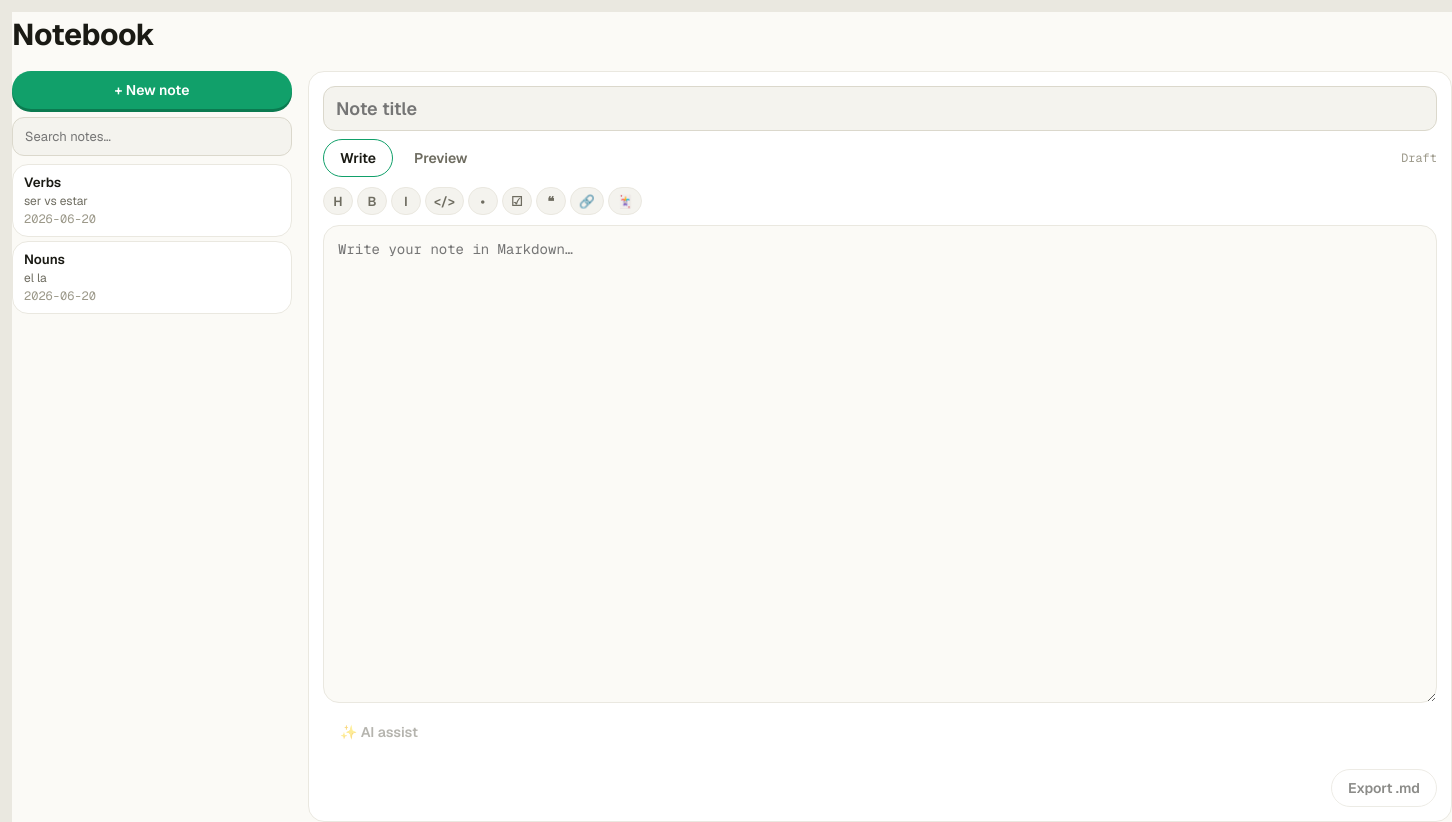
Test case: Notebook › lists notes and opens one in the editor
Step 1. Click the text "Nouns" → click(44, 260), box [24,251,65,268]
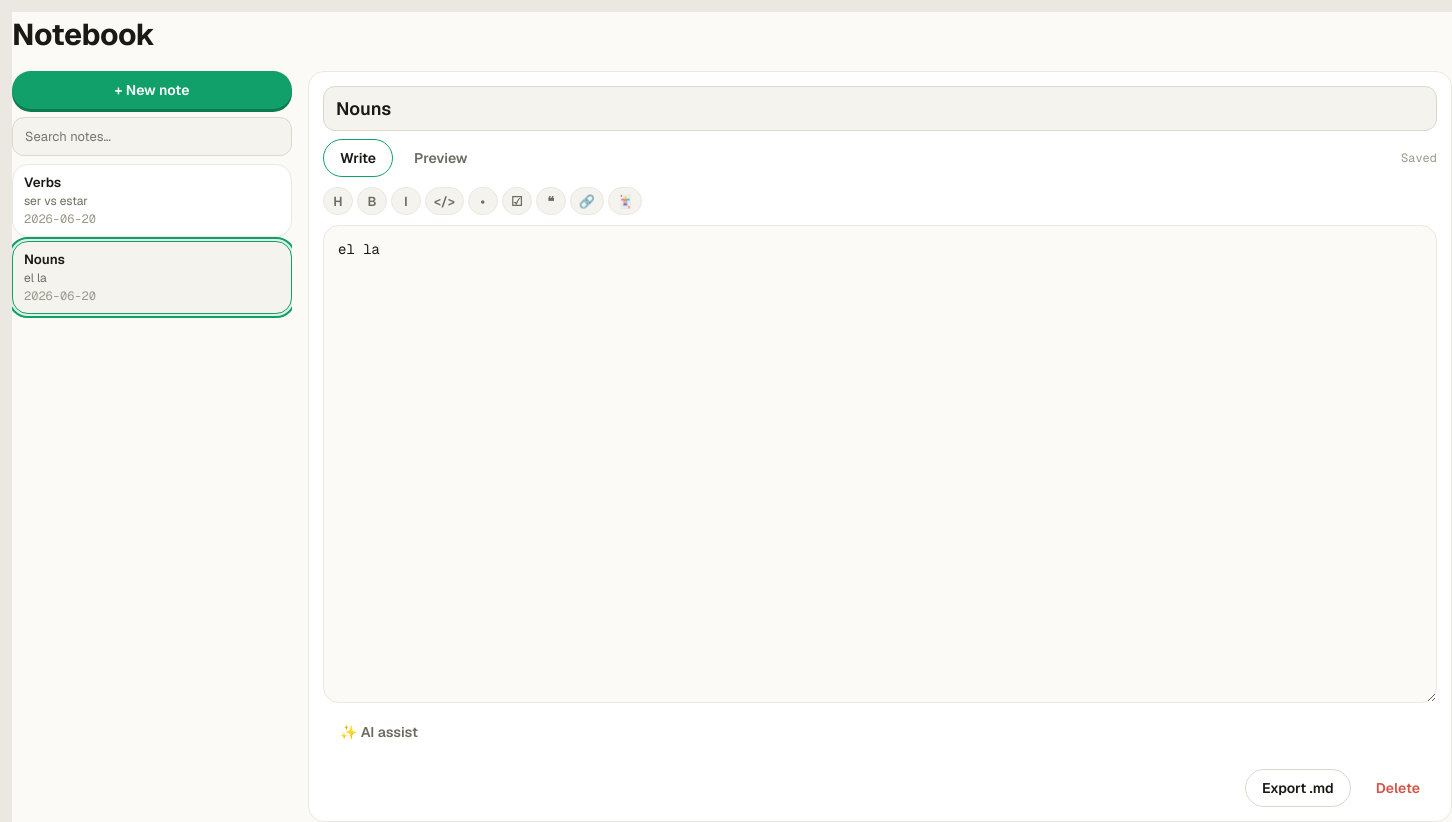
Expected: the field with test id "notebook-title" holds "Nouns", [323,86,1437,131]
Expected: the text box with test id "notebook-body" holds "el la", [323,225,1437,703]
